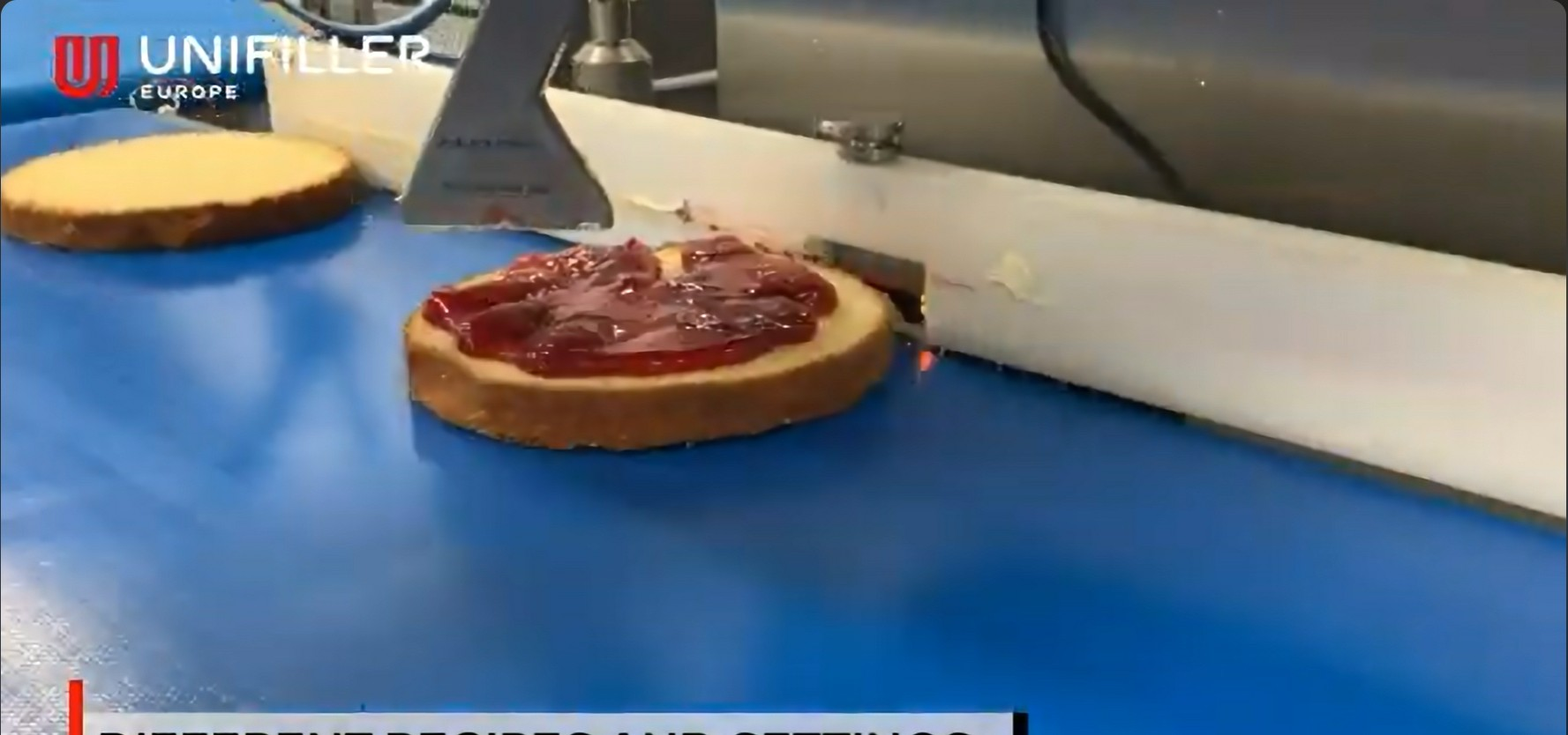Sponge Cake: (406, 234, 896, 448), (0, 130, 360, 250)
